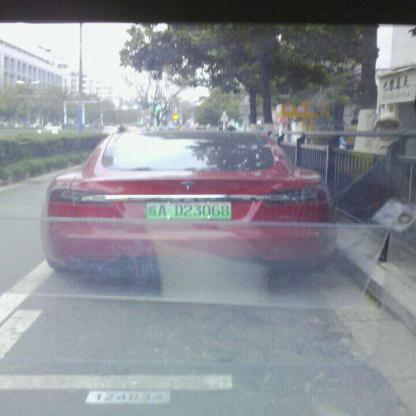lp: (147, 202, 231, 218)
